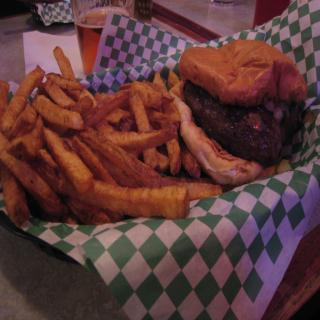French fries: (0, 62, 212, 232)
